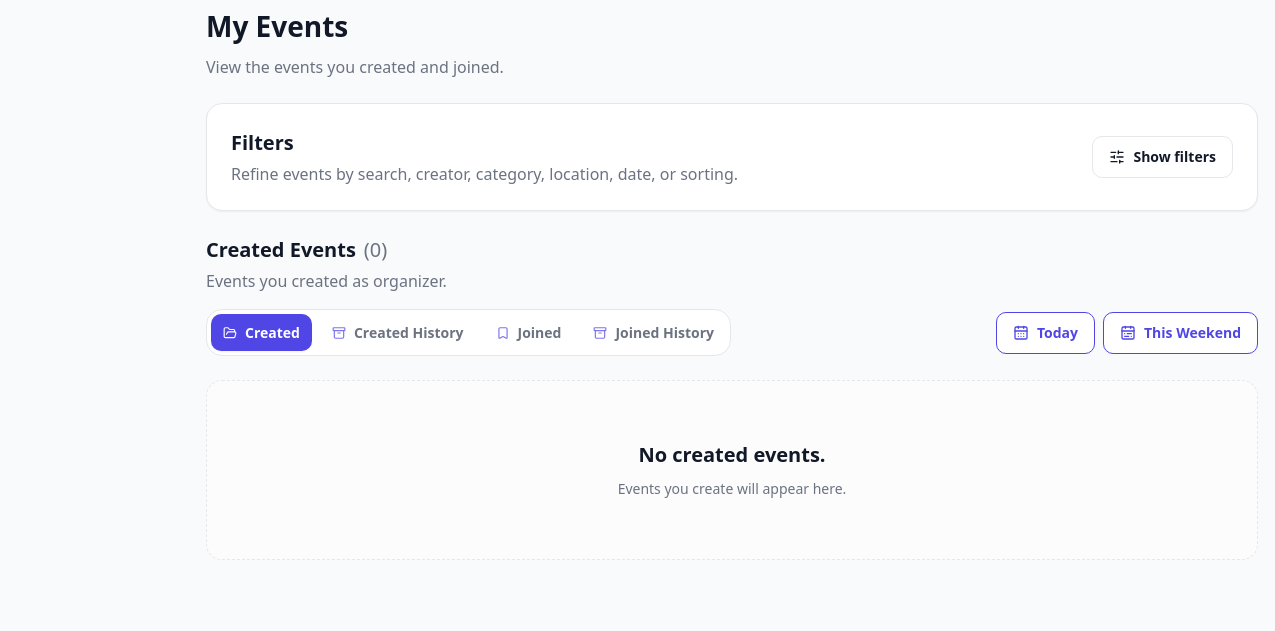
Test: MyEventsPage › changes view when clicking Joined tab
The image size is (1275, 631).
Expected: the heading "No created events." is shown, [638,440,826,470]
What coordinates should you click on to do the following:
click the tab "Joined"
I would click on:
 (528, 332)
Its box is [484,314,573,351].
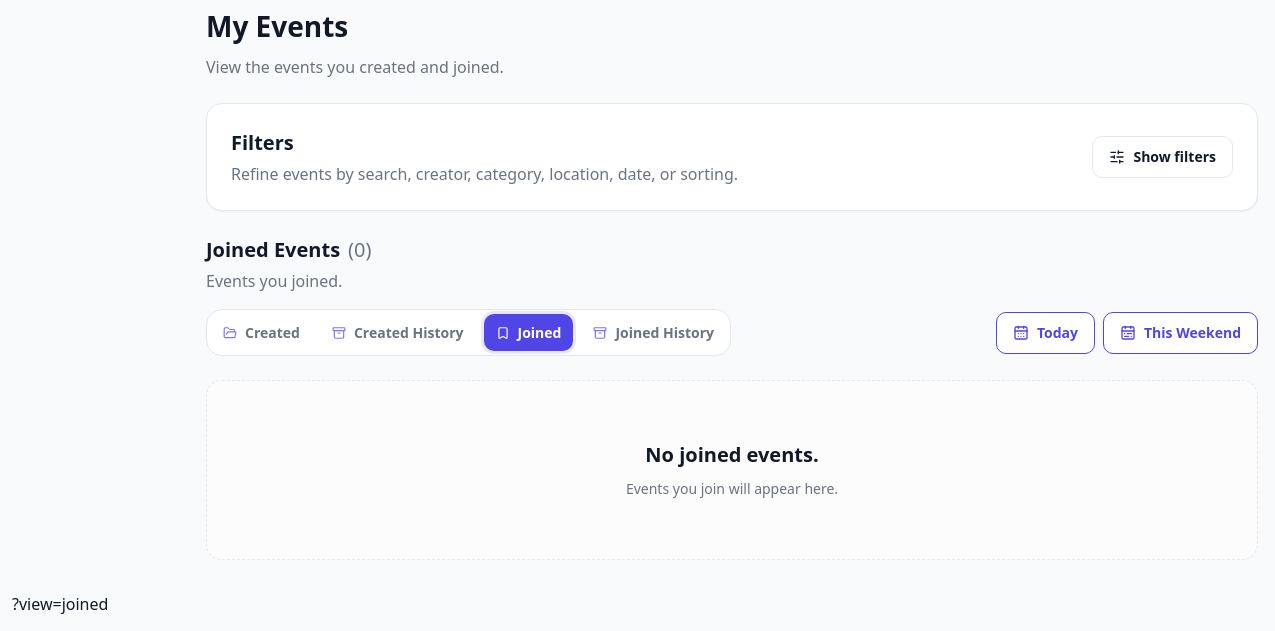
Expected: the heading "Joined Events(0)" is shown, [206,235,372,265]
